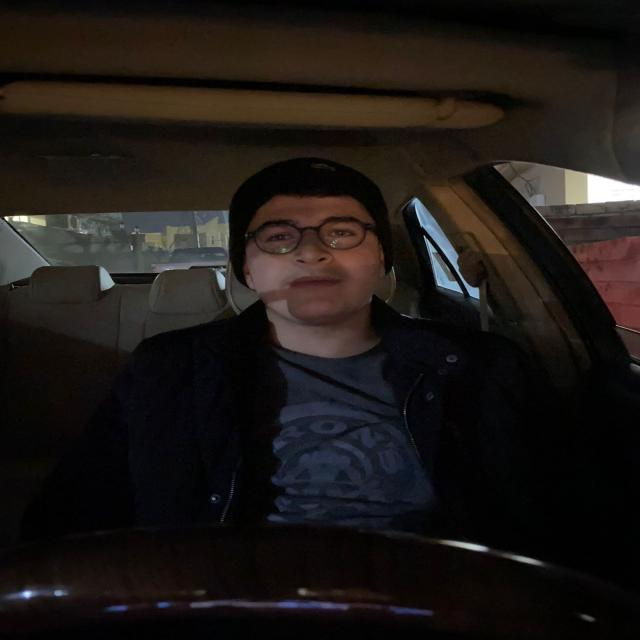person: (226, 162, 406, 334)
